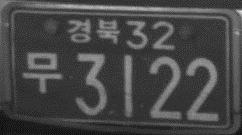1: (115, 54, 140, 117)
2: (185, 56, 219, 122), (148, 56, 182, 120), (151, 20, 175, 50)
3: (74, 52, 108, 116), (124, 19, 148, 49)
경북_O: (67, 17, 120, 44)
무: (21, 51, 62, 93)
